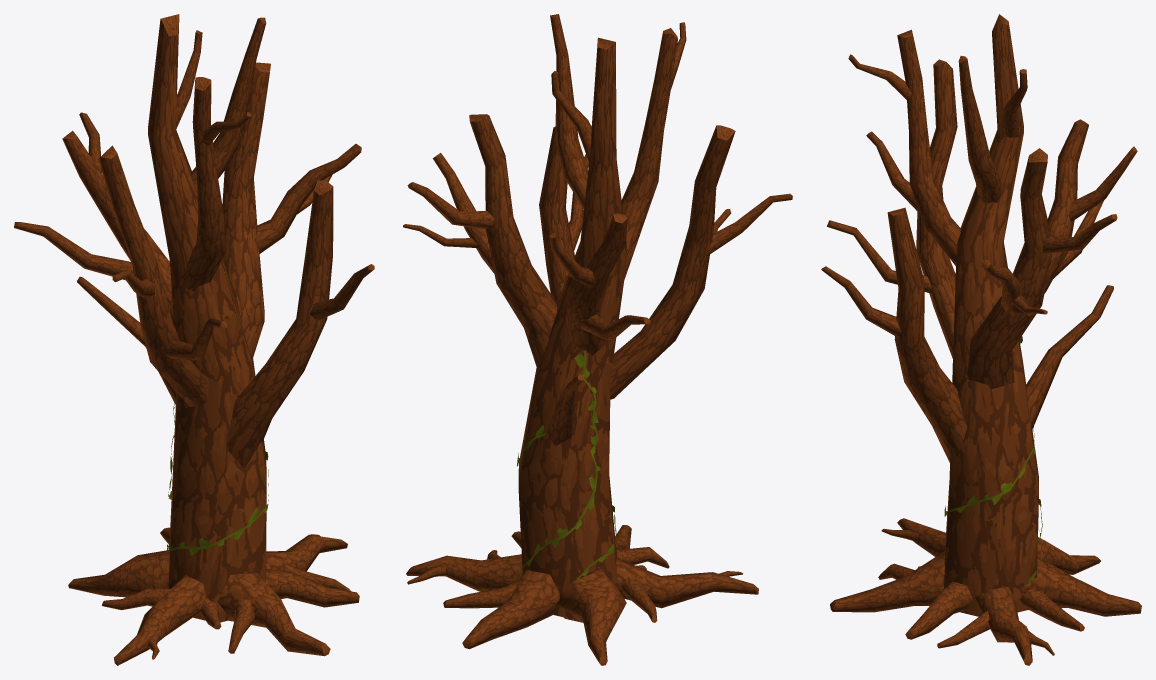
File: tree_bald.fbx
3 renders of one model, left to right at view 1: azimuth 30°, elevation 25°; view 2: azimuth 150°, elevation 25°; view 3: azimuth 270°, elevation 25°, orthographic. The views are drawn at different scales.
Parts seen in each view (by area): view 1: wood_a.001; view 2: wood_a.001; view 3: wood_a.001.
Part boxes in pixels (bbox=[...]): wood_a.001: bbox=[14, 14, 374, 665]; wood_a.001: bbox=[403, 14, 792, 665]; wood_a.001: bbox=[821, 14, 1141, 665].
Bounding box in the file's own units: 459 × 832 × 426.
2 materials, 2 textured.
